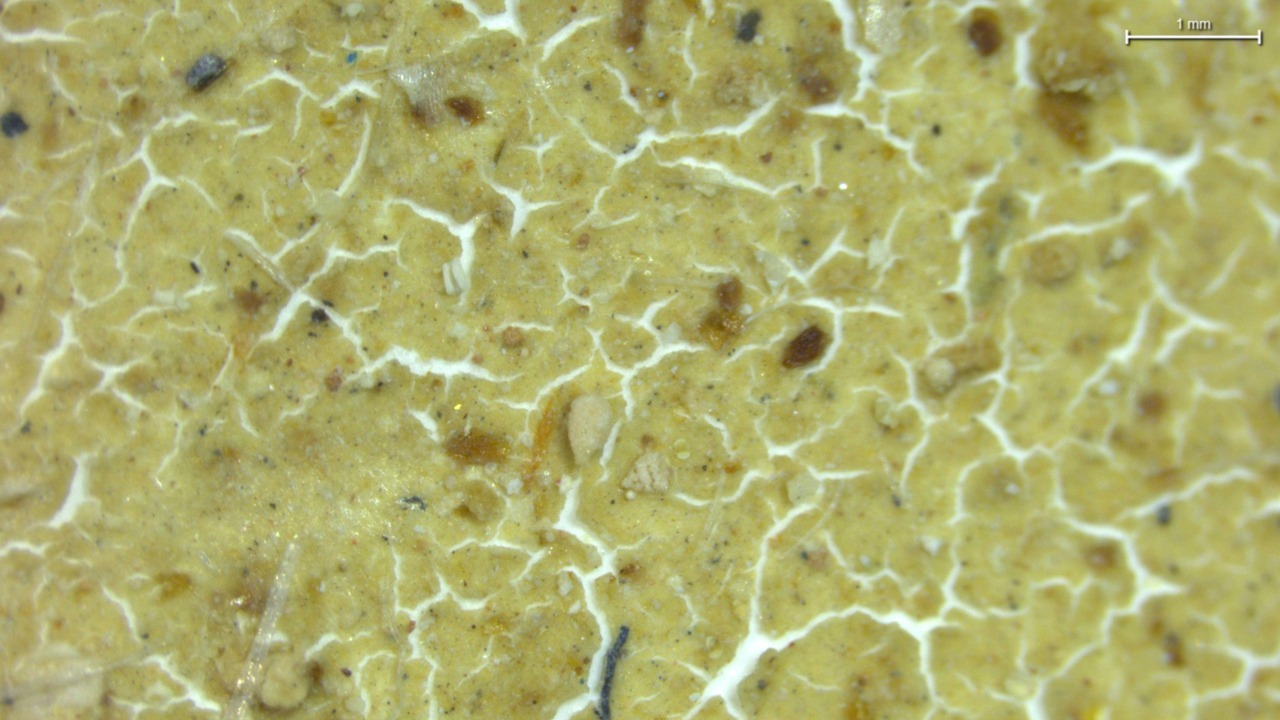microplastic_fragment: (567, 396, 623, 469), (927, 358, 956, 392)
